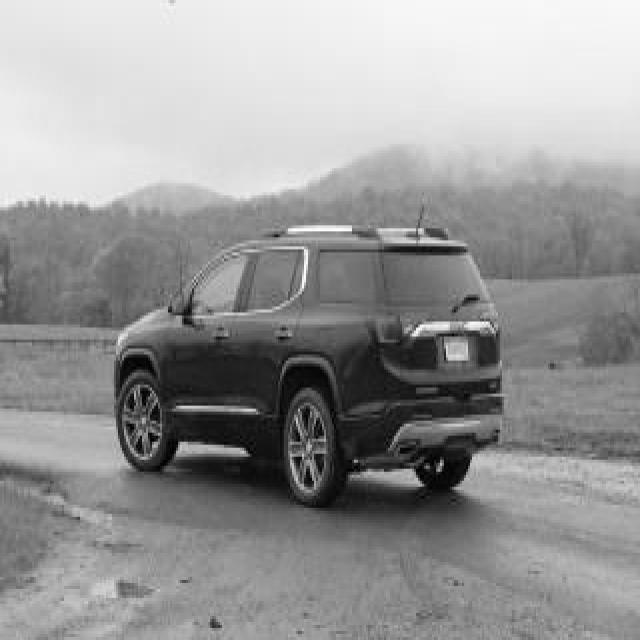Car: (116, 227, 499, 504)
